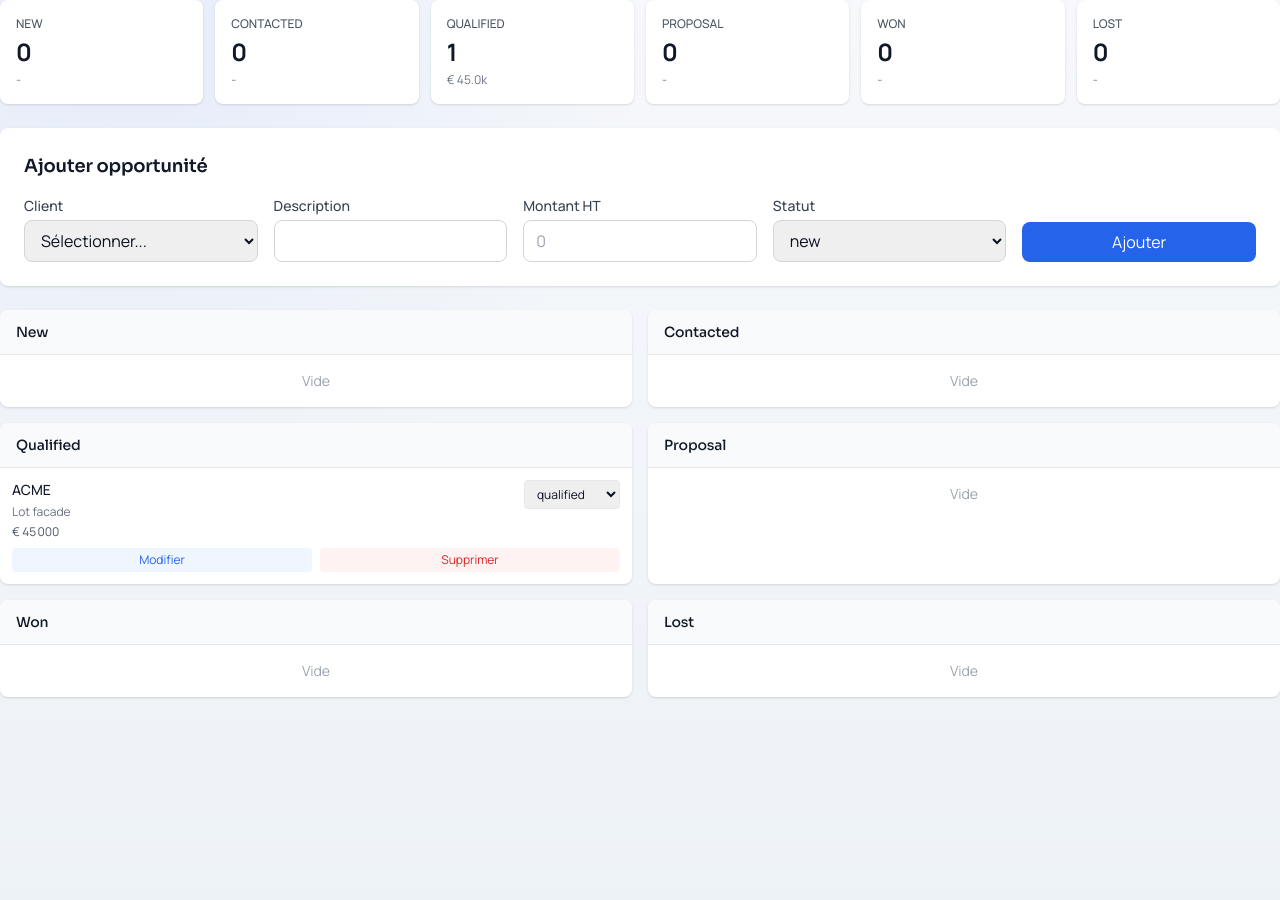
Test case: SalesLeadPipeline › change le statut depuis la carte pipeline et affiche un toast
Select "won" in the dropdown in the row of "Lot facade" at (572, 494), box [524,480,620,509]
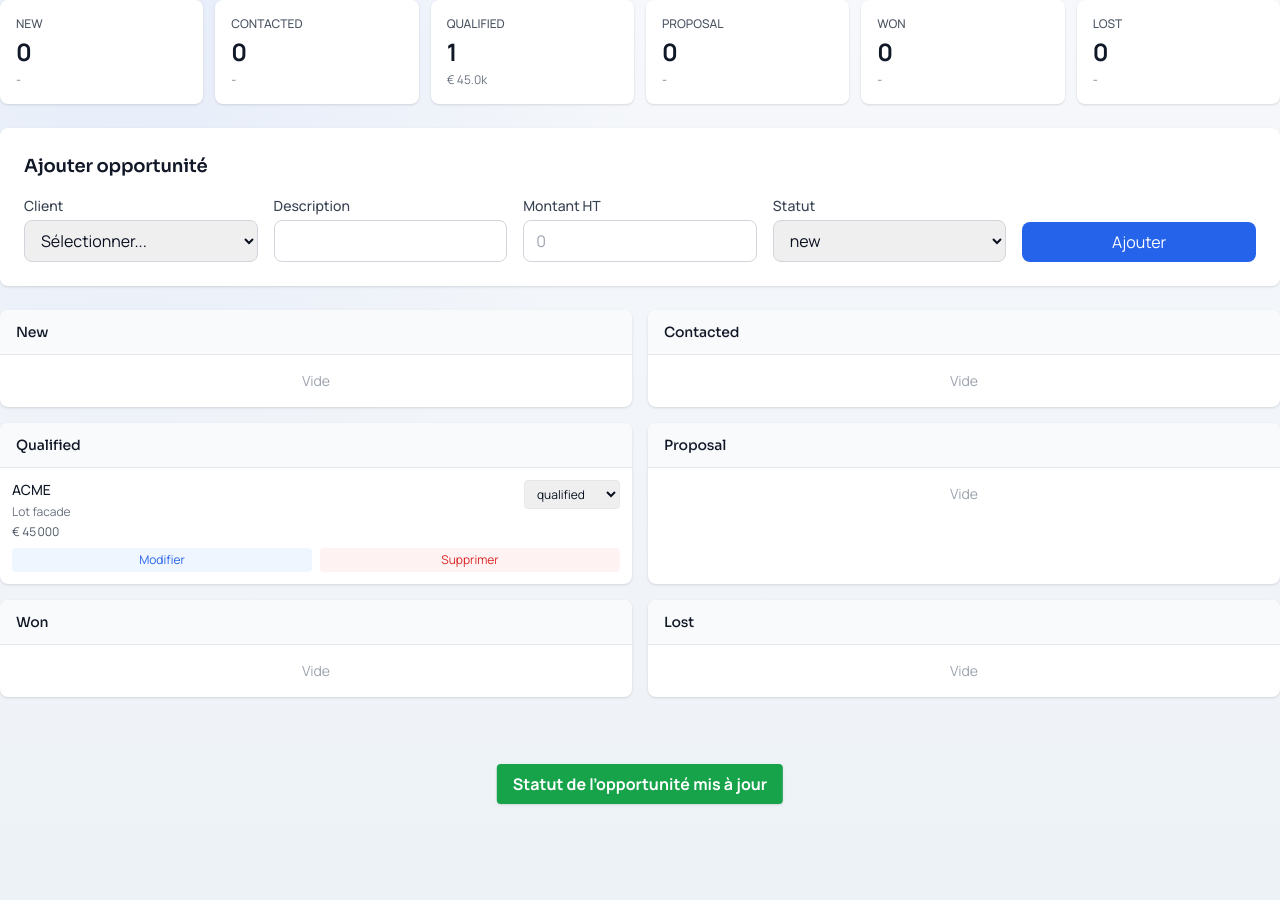
Check: the text "Statut de l’opportunité mis à jour" is shown, box [497,764,783,804]
